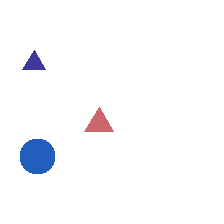circle: (20, 139, 54, 173)
triangle: (84, 107, 113, 131), (22, 50, 45, 69)
